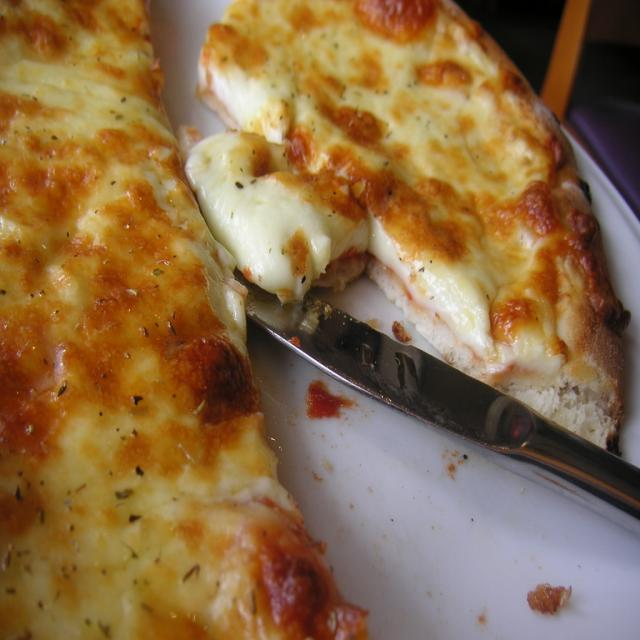Pizza: (5, 0, 367, 639), (211, 0, 609, 475)
